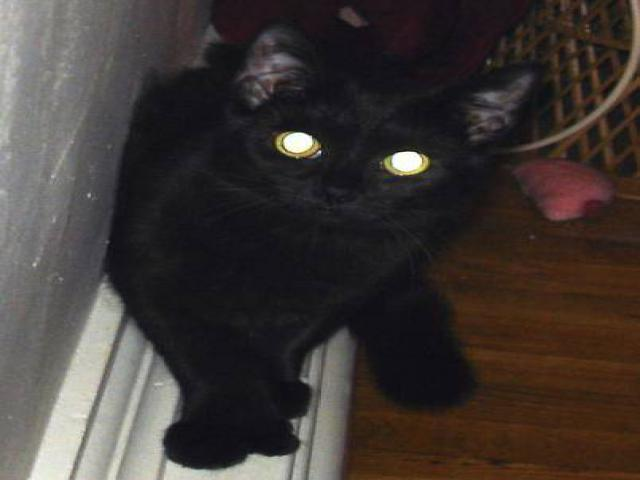cat: (96, 5, 604, 454)
